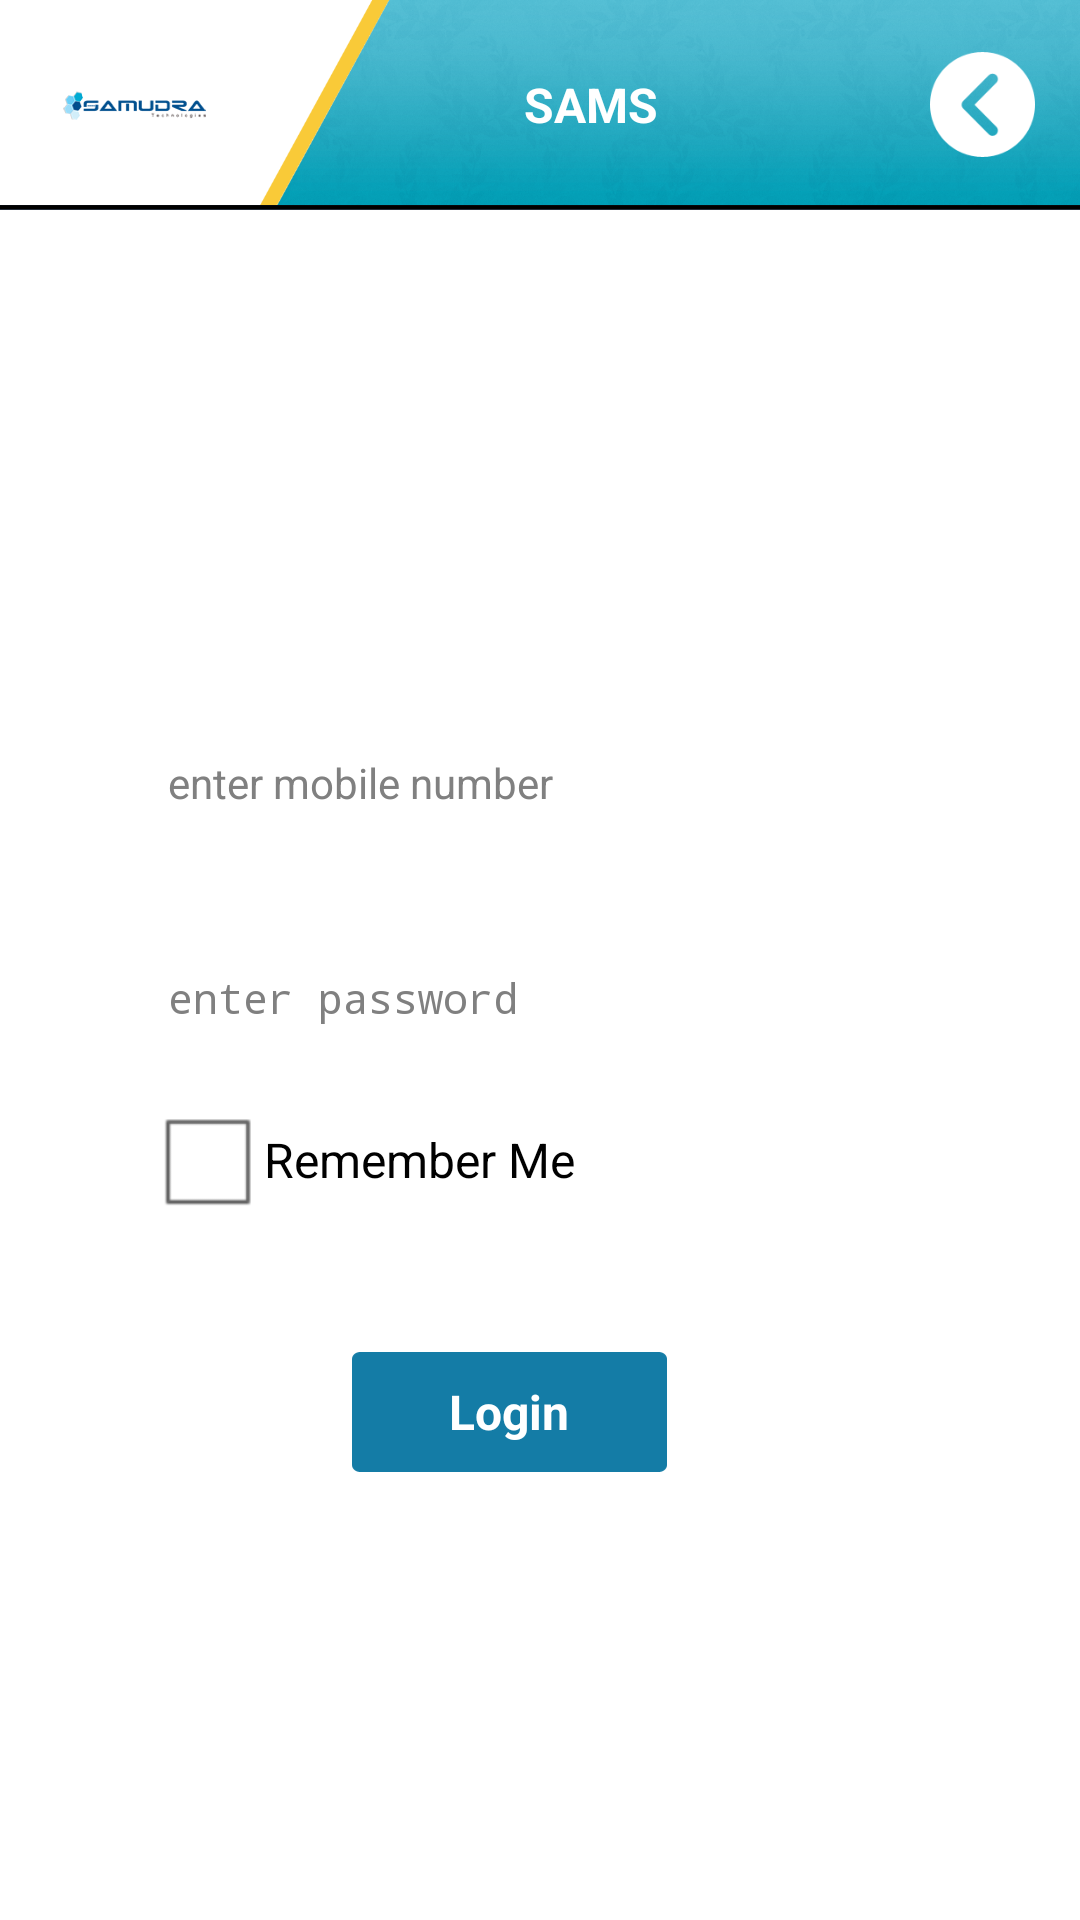

Point at icon controls on the screen. Image size 1080 × 1920, points as [x,y].
back: [982,104]
